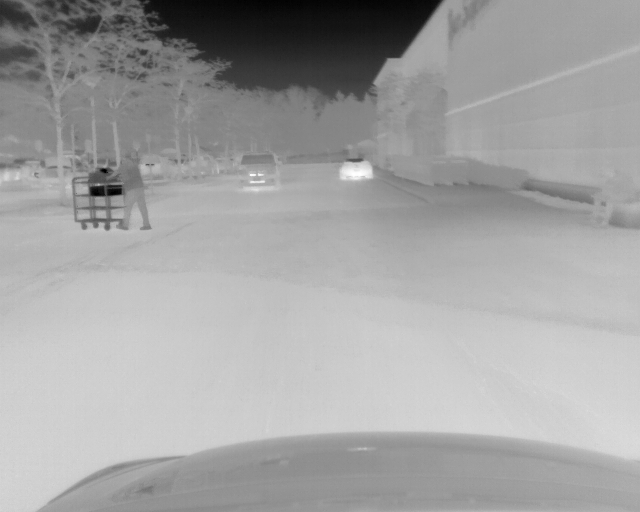car: (236, 151, 281, 190), (135, 151, 172, 180), (181, 151, 220, 178), (338, 157, 373, 181)
people: (110, 150, 152, 233), (589, 161, 640, 228)
